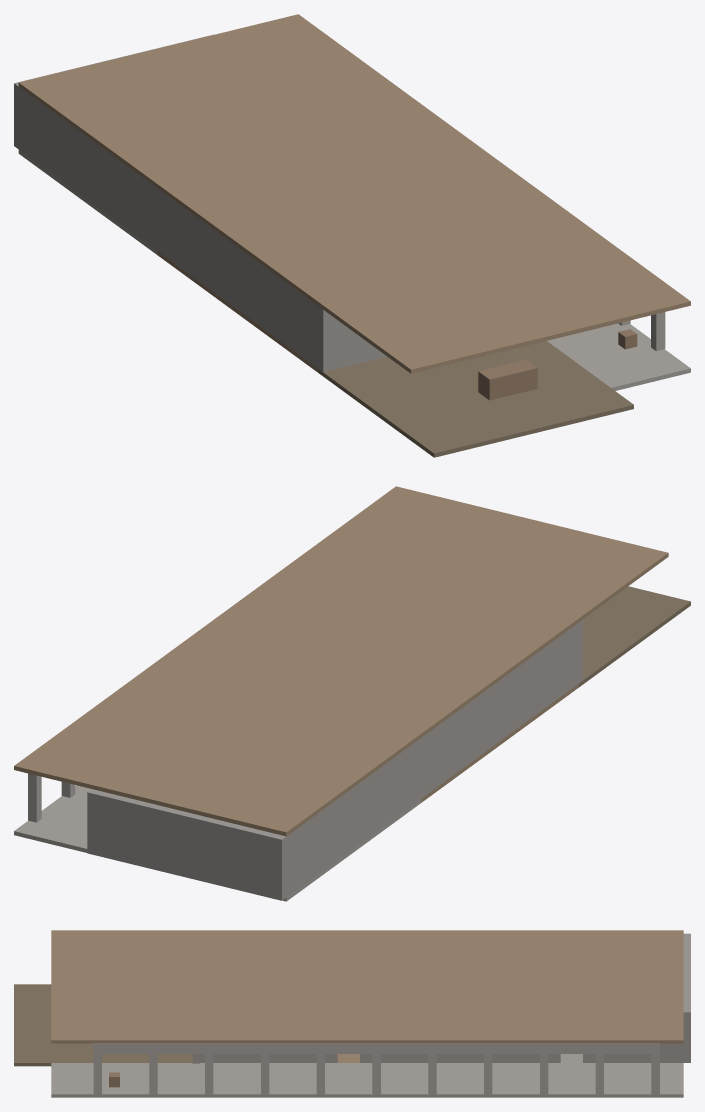
File: west_range.glb
3 views of the same model, one above another, from view 1: azimuth 30°, elevation 25°; view 2: azimuth 150°, elevation 25°; view 3: azimuth 270°, elevation 25° (orthographic). The views are drawn at different scales.
Parts seen in each view (by area): view 1: floor_mud_4.002, floor_mud_4.001, wall_rubble_4.003, wall_rubble_4.004, wall_rubble_4.006, wall_rubble_4.008, wall_rubble_4.007, wall_rubble_4.005, floor_flag_4.014, floor_mud_4.004, wall_rubble_2.005, woodpile.001 (+131 smaller); view 2: wall_rubble_4.001, wall_rubble_4.002, wall_rubble_4.004, wall_rubble_4.006, wall_rubble_4.003, wall_rubble_4.005, wall_rubble_4.007, wall_rubble_4.008, floor_mud_4.002, wall_rubble_2.001, floor_flag_4.007, wall_rubble_2.002 (+122 smaller); view 3: floor_flag_4.013, floor_flag_4.010, floor_flag_4.007, floor_flag_4.009, floor_flag_4.012, floor_flag_4.008, floor_flag_4.011, floor_flag_4.014, wall_rubble_4.009, floor_board_2.225, floor_board_2.230, floor_board_2.235 (+153 smaller).
Boxes of the visible parts, x1,y1,x2,y2 form: floor_mud_4.002: (365,383,490,440); floor_mud_4.001: (318,357,444,406); wall_rubble_4.003: (18,87,64,182); wall_rubble_4.004: (64,120,110,216); wall_rubble_4.006: (157,188,203,284); wall_rubble_4.008: (249,256,295,351); wall_rubble_4.007: (203,222,249,317); wall_rubble_4.005: (111,154,156,250); floor_flag_4.014: (547,323,667,370); floor_mud_4.004: (445,373,570,416); wall_rubble_2.005: (318,306,363,372); woodpile.001: (478,359,537,400); wall_rubble_4.001: (204,817,286,900); wall_rubble_4.002: (126,798,208,881); wall_rubble_4.004: (331,771,376,864); wall_rubble_4.006: (421,705,466,798); wall_rubble_4.003: (286,804,331,897); wall_rubble_4.005: (376,738,421,831); wall_rubble_4.007: (466,672,511,765); wall_rubble_4.008: (511,639,555,732); floor_mud_4.002: (583,602,668,654); wall_rubble_2.001: (87,789,130,862); floor_flag_4.007: (14,798,87,852); wall_rubble_2.002: (556,623,578,699); floor_flag_4.013: (162,1063,237,1097); floor_flag_4.010: (386,1063,460,1097); floor_flag_4.007: (609,1063,683,1097); floor_flag_4.009: (460,1063,534,1097); floor_flag_4.012: (237,1063,311,1097); floor_flag_4.008: (534,1063,608,1097); floor_flag_4.011: (311,1063,385,1097); floor_flag_4.014: (88,1063,162,1097); wall_rubble_4.009: (609,1043,683,1062); floor_board_2.225: (646,1024,683,1043); floor_board_2.230: (460,1024,497,1043); floor_board_2.235: (274,1024,311,1043).
Size of the model in its own units: 14.02 by 3.4 by 36.4.
